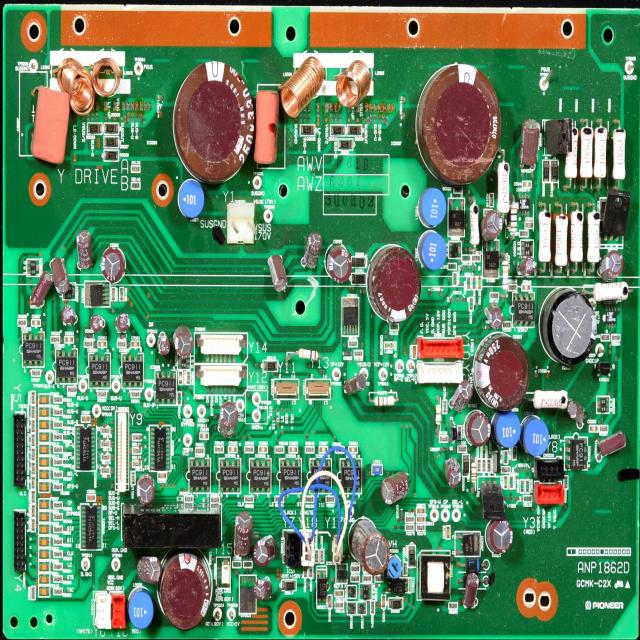Capacitor Jumper: (161, 554, 211, 628), (348, 520, 390, 575), (520, 120, 538, 172), (381, 474, 410, 504), (267, 255, 288, 294), (101, 247, 124, 282), (330, 245, 350, 284), (253, 534, 277, 566), (235, 512, 252, 556), (468, 412, 490, 445), (488, 521, 512, 551), (303, 233, 322, 270), (52, 257, 70, 293), (454, 379, 473, 412), (462, 573, 479, 609), (32, 275, 51, 307), (138, 556, 161, 582), (220, 402, 236, 436), (77, 232, 91, 270), (137, 475, 155, 504), (484, 211, 502, 240), (604, 254, 623, 281), (175, 328, 192, 356), (344, 374, 366, 395), (445, 459, 462, 486), (487, 303, 504, 328), (255, 577, 272, 601), (62, 304, 76, 326), (522, 258, 536, 277), (116, 314, 130, 332), (158, 336, 170, 354), (91, 315, 103, 331), (258, 446, 268, 454), (86, 494, 96, 502), (522, 180, 532, 188), (525, 479, 530, 494), (200, 432, 209, 440), (228, 446, 237, 454), (319, 446, 328, 454), (381, 596, 386, 610), (64, 336, 74, 343), (412, 345, 417, 359), (81, 416, 90, 423), (289, 446, 298, 453), (416, 516, 425, 523), (525, 222, 534, 229), (32, 320, 41, 327), (601, 334, 610, 341), (131, 341, 140, 348), (416, 508, 426, 514), (590, 425, 598, 432), (446, 525, 450, 539), (328, 595, 332, 609), (467, 277, 471, 291), (178, 371, 182, 385), (158, 473, 167, 479), (98, 341, 107, 347), (336, 590, 344, 596), (350, 447, 358, 452), (522, 285, 530, 290)
Connector: (195, 364, 248, 395), (194, 333, 248, 363), (115, 412, 129, 492), (416, 337, 464, 360), (418, 360, 462, 384), (13, 413, 25, 486), (14, 511, 26, 574), (535, 458, 565, 482), (534, 483, 564, 506), (94, 592, 111, 630), (110, 592, 126, 630), (284, 531, 302, 564), (306, 379, 331, 400), (274, 379, 300, 399), (302, 532, 314, 566), (216, 558, 230, 587)
IC: (75, 425, 97, 471), (80, 504, 102, 550), (149, 425, 171, 470), (513, 291, 535, 329), (564, 437, 588, 470), (189, 458, 211, 493), (22, 332, 44, 367), (249, 459, 271, 493), (280, 459, 301, 493), (56, 349, 77, 383), (89, 354, 110, 387), (156, 371, 176, 405), (220, 458, 240, 492), (342, 297, 359, 337), (122, 355, 143, 387), (455, 532, 481, 557), (341, 460, 361, 492), (311, 461, 331, 492), (85, 282, 109, 307), (240, 576, 256, 613), (317, 569, 328, 602), (386, 578, 408, 593), (518, 192, 530, 216), (26, 260, 43, 276), (597, 395, 610, 415), (520, 240, 534, 258), (596, 362, 612, 376), (336, 564, 347, 584), (359, 584, 372, 600), (62, 286, 76, 300), (178, 353, 190, 369), (606, 308, 616, 327), (357, 602, 367, 615), (348, 585, 357, 599), (347, 603, 357, 615)
Resistor Jumper: (284, 346, 322, 366), (613, 129, 626, 180), (565, 128, 578, 178), (496, 162, 509, 212), (554, 215, 566, 266), (580, 127, 592, 177), (539, 212, 551, 262), (588, 212, 600, 262), (571, 213, 583, 261), (367, 393, 399, 409), (596, 127, 606, 178), (470, 204, 480, 247), (502, 260, 510, 291), (511, 200, 517, 234), (471, 457, 477, 489), (436, 403, 441, 428), (442, 399, 448, 414), (599, 425, 609, 433), (132, 446, 142, 454), (132, 460, 142, 468), (416, 524, 426, 532), (477, 275, 482, 291), (111, 287, 116, 302), (275, 446, 284, 454), (101, 454, 110, 462), (502, 466, 511, 474), (245, 496, 254, 504), (405, 524, 414, 532), (439, 436, 449, 443), (458, 446, 468, 453), (53, 526, 63, 533), (53, 588, 63, 595), (370, 601, 375, 615), (119, 287, 124, 301), (390, 324, 400, 331), (84, 341, 94, 348), (512, 447, 517, 460), (489, 193, 494, 206), (509, 284, 517, 292), (98, 391, 107, 398), (131, 391, 140, 398), (101, 428, 110, 435), (214, 446, 223, 453), (523, 495, 532, 502), (326, 496, 335, 503), (184, 496, 193, 503), (405, 516, 414, 523), (375, 576, 384, 583), (449, 603, 458, 610), (131, 166, 140, 173), (131, 183, 140, 190), (18, 320, 27, 327), (51, 336, 60, 343), (348, 340, 357, 347), (354, 350, 363, 357), (31, 418, 35, 433), (458, 425, 462, 440), (132, 435, 142, 441), (503, 476, 508, 488), (509, 476, 514, 488), (32, 518, 36, 533), (453, 186, 463, 192), (472, 276, 476, 291), (117, 342, 127, 348), (186, 372, 191, 384), (336, 446, 344, 453), (504, 451, 508, 465), (54, 471, 62, 478), (275, 496, 283, 503), (31, 504, 35, 518), (403, 562, 407, 576), (469, 297, 473, 311), (32, 369, 40, 376), (101, 441, 110, 447), (245, 446, 254, 452), (211, 497, 220, 503), (351, 566, 360, 572), (351, 576, 360, 582), (363, 576, 372, 582), (335, 602, 344, 608), (471, 256, 480, 262), (489, 293, 498, 299), (611, 334, 620, 340), (384, 343, 393, 349), (177, 392, 181, 405), (31, 405, 35, 418), (32, 434, 36, 447), (31, 448, 35, 461), (477, 459, 481, 472), (482, 459, 486, 472), (487, 459, 491, 472), (32, 462, 36, 475), (131, 471, 135, 484), (564, 476, 568, 489), (32, 476, 36, 489), (315, 550, 319, 563), (320, 550, 324, 563), (31, 587, 35, 600), (68, 387, 76, 393), (32, 392, 36, 404), (54, 422, 62, 428), (306, 447, 314, 453), (54, 447, 62, 453), (54, 460, 62, 466), (54, 484, 62, 490), (32, 491, 36, 503), (54, 514, 62, 520), (54, 539, 62, 545), (54, 552, 62, 558), (233, 562, 241, 568), (244, 561, 252, 567), (54, 564, 62, 570), (54, 576, 62, 582), (520, 230, 528, 236), (101, 468, 110, 473), (305, 497, 314, 502), (462, 256, 471, 261), (304, 567, 308, 578), (54, 434, 61, 440), (196, 448, 203, 454), (503, 322, 510, 328), (54, 503, 62, 508), (309, 568, 313, 578)
Transistor: (448, 198, 464, 237), (484, 240, 499, 278), (449, 242, 462, 258)
